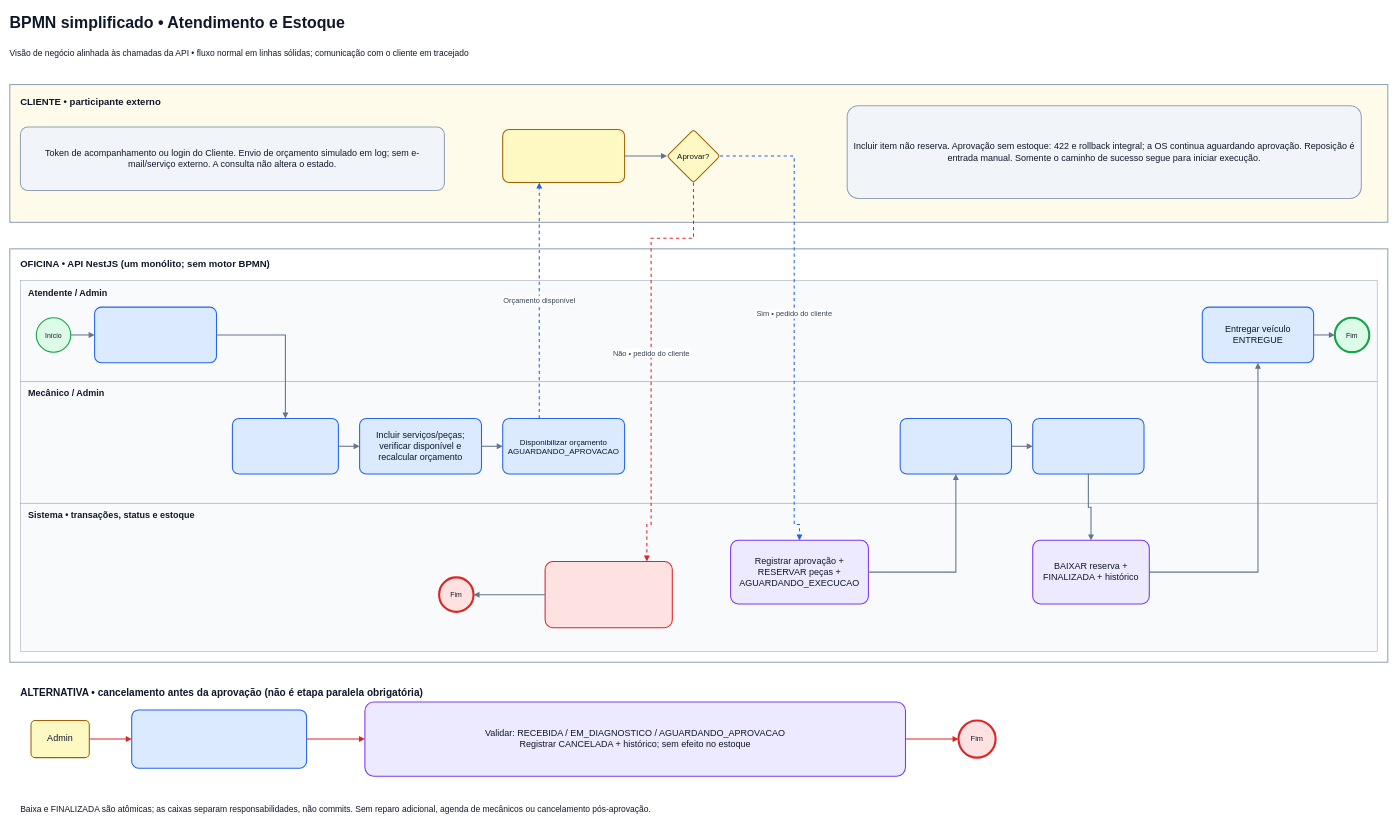
Some shapes in this 1397 by 833 pixel diagram are drawn without their labels. Each missing label, with the centre of its shape:
"Concluir execução Comando complete" belongs at (x=1088, y=446).
"Consultar e avaliar orçamento via /tracking" belongs at (x=563, y=156).
"Identificar/cadastrar cliente e veículo; abrir OS" belongs at (x=155, y=334).
"Iniciar diagnóstico EM_DIAGNOSTICO" belongs at (x=285, y=446).
"Iniciar execução EM_EXECUCAO" belongs at (x=955, y=446).
"Registrar recusa ORCAMENTO_RECUSADO Sem movimentar estoque" belongs at (x=608, y=594).
"Solicitar cancelamento POST .../cancel Motivo obrigatório" belongs at (x=219, y=738).
